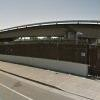Bridge: (0, 10, 90, 47)
